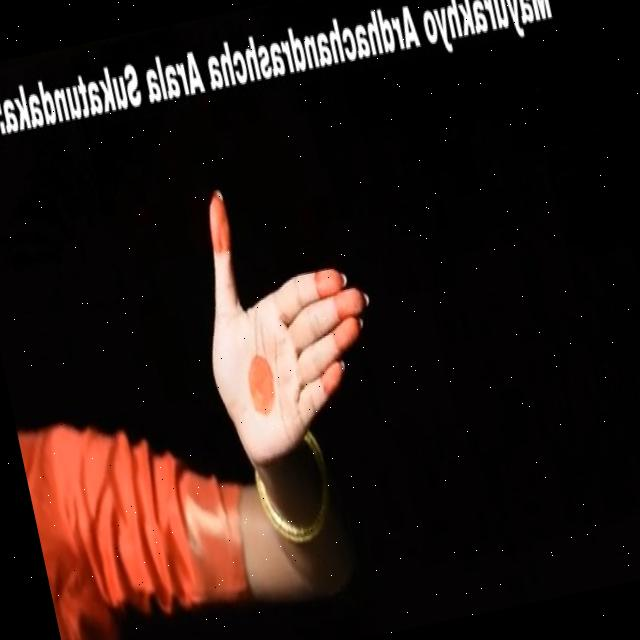Ardhachandra: (140, 133, 413, 488)
bangle: (245, 440, 352, 557)
text: (0, 0, 567, 157)
